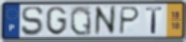G: (45, 6, 69, 37)
N: (94, 5, 118, 37)
P: (117, 6, 142, 36)
Q: (69, 5, 93, 37)
S: (20, 5, 45, 37)
T: (145, 6, 164, 35)
